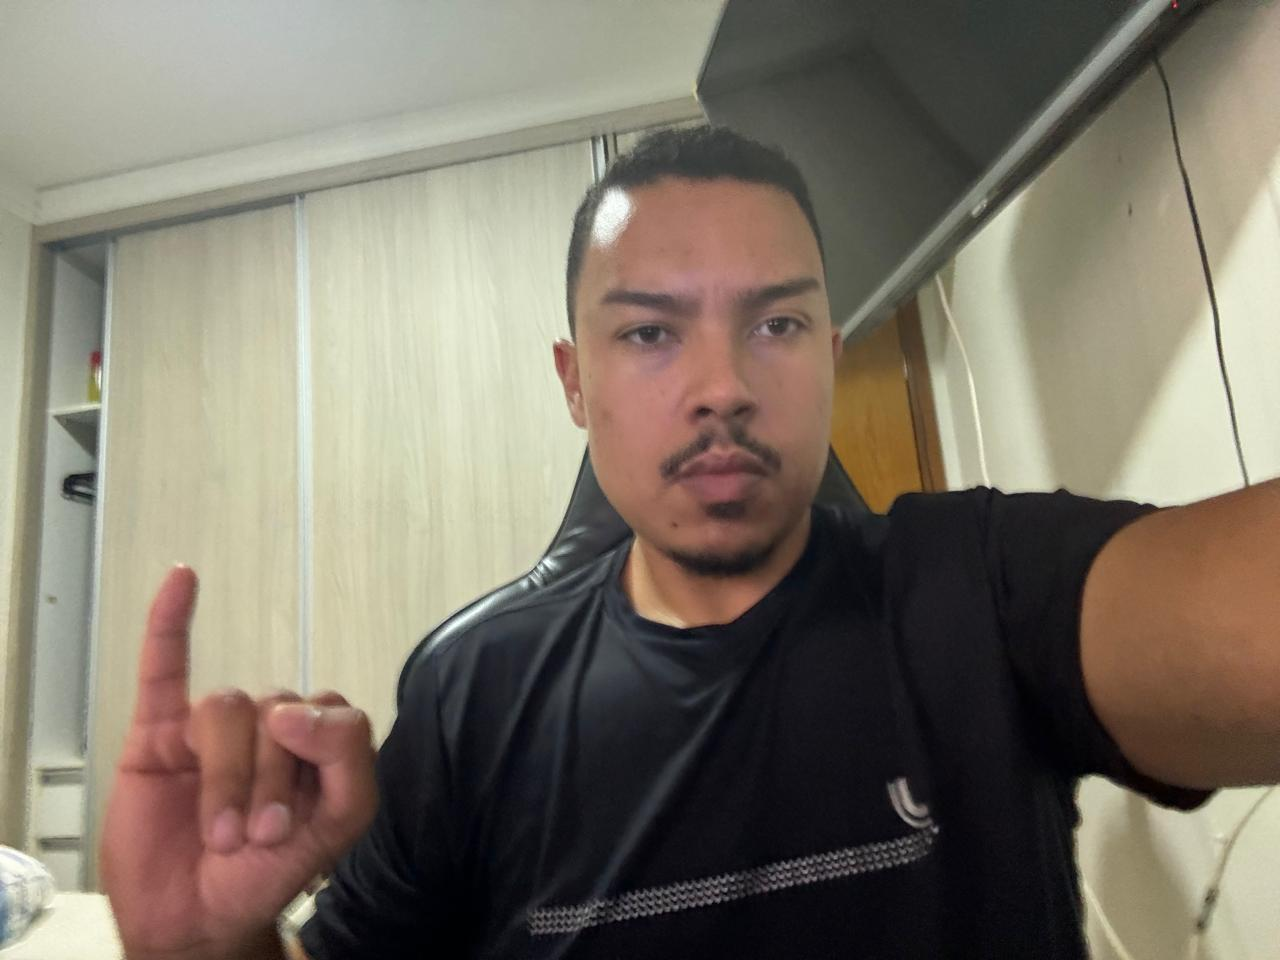i: (94, 555, 385, 958)
